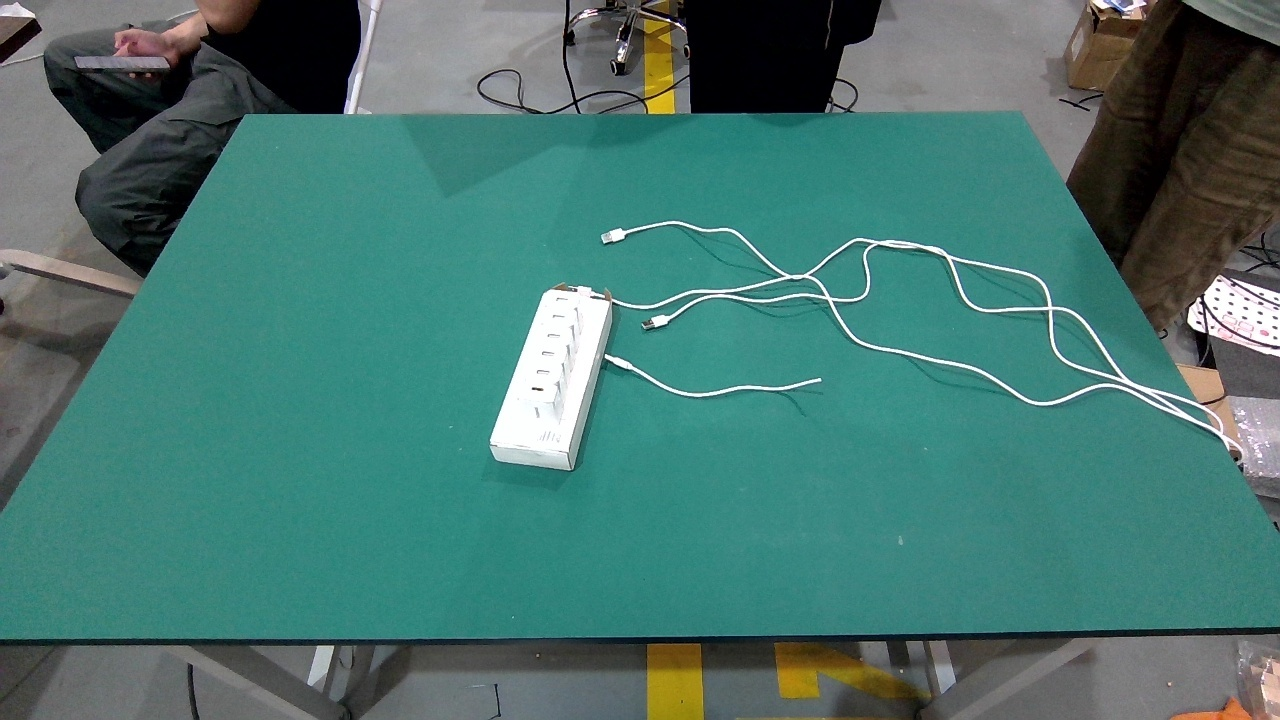usb_a_port: (537, 369, 550, 376), (552, 314, 566, 320), (555, 297, 569, 302), (541, 351, 554, 356), (531, 387, 544, 392), (547, 334, 561, 338)
